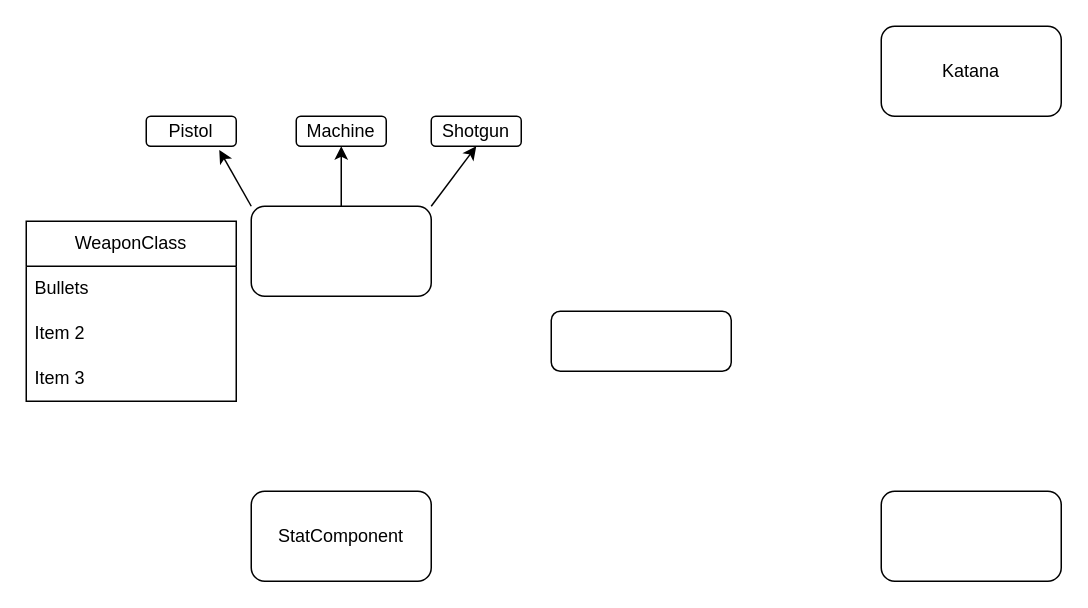
The diagram is 1088 pixels wide and 608 high, and some of its shapes have lost their labels. The centre of each missing label's shape, as x and y in pixels:
"Character" goes at (640,340).
"Weapon class" goes at (340,250).
